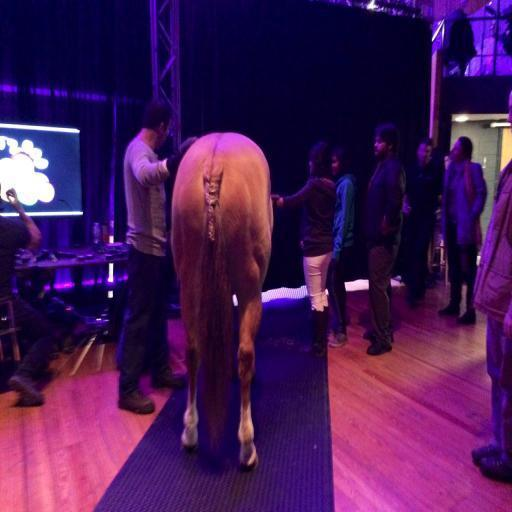horse: (168, 132, 276, 474)
